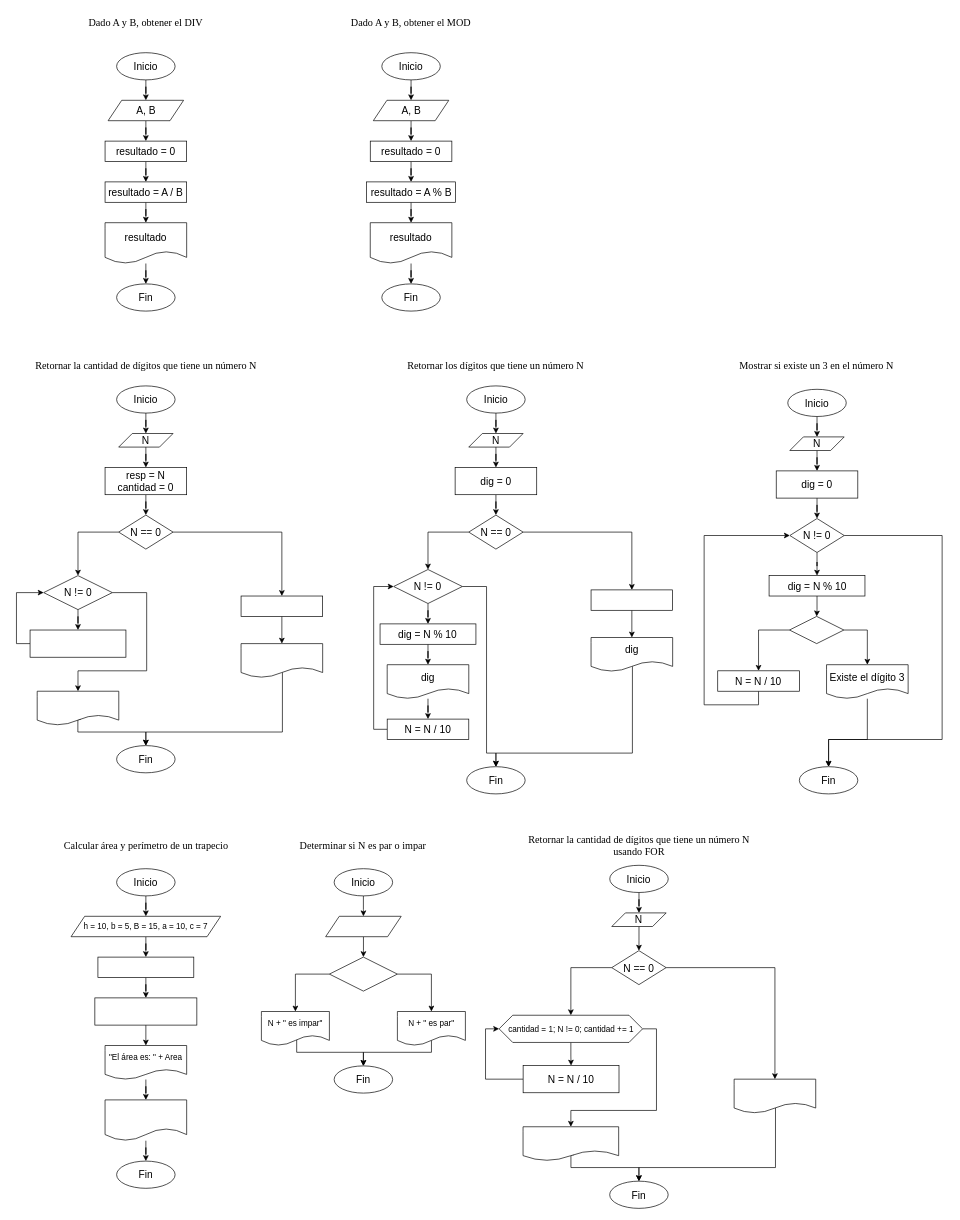
Some shapes in this 960 by 1220 pixel diagram are drawn without their labels. Here are the shapes that lost their labels. From the top down, the box of each, then its label:
(240, 595, 323, 616): cantidad = 1
(590, 589, 673, 610): dig = N
(29, 629, 126, 657): N = N / 10 cantidad += 1
(789, 616, 844, 644): dig == 3
(240, 643, 323, 678): cantidad + 1
(37, 691, 119, 725): cantidad
(325, 916, 401, 937): N = 115
(97, 956, 194, 978): Area = 0, Perimetro = 0
(329, 956, 397, 991): (N % 2) == 0
(94, 997, 197, 1025): Area = ((b + B) / 2) * h Perímetro = a + b + B + c
(733, 1078, 816, 1113): 1 + " dígitos"
(104, 1099, 187, 1141): "El perímetro es: " + Perimetro
(522, 1126, 619, 1161): cantidad + "dígitos"
